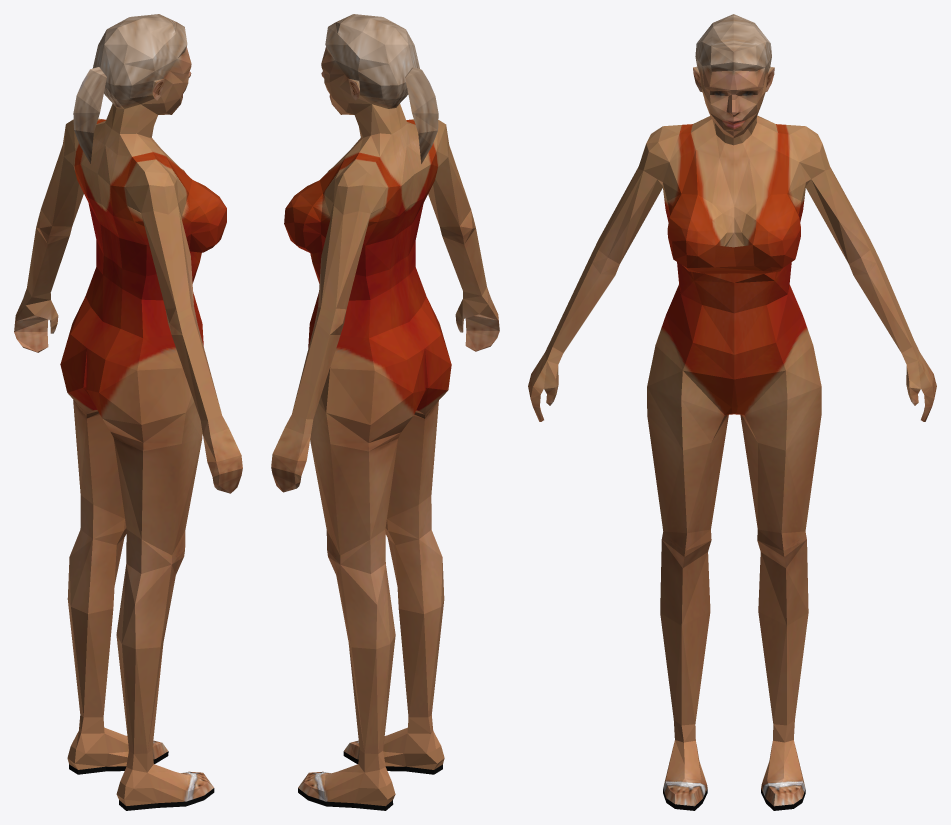
Rendered from wfylg.obj.
3 views of the same model, side by side, from view 1: azimuth 30°, elevation 25°; view 2: azimuth 150°, elevation 25°; view 3: azimuth 270°, elevation 25° (orthographic).
Parts seen in each view (by area): view 1: _Pelvis; view 2: _Pelvis; view 3: _Pelvis.
Boxes of the visible parts, <box> form: _Pelvis: <box>14,14,242,810</box>; _Pelvis: <box>271,14,499,810</box>; _Pelvis: <box>528,14,936,810</box>.
Size of the model in its own units: 0.3239 by 1.78 by 0.8627.
Materials: 1 (1 with a texture image).
